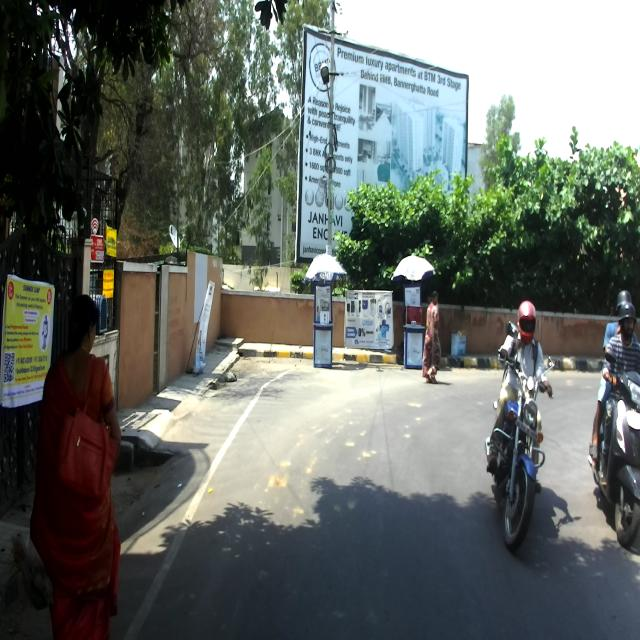motorcycle ahead at: (488, 351, 557, 547), (591, 348, 640, 552)
person ahead at: (35, 289, 122, 639), (422, 285, 441, 386)
